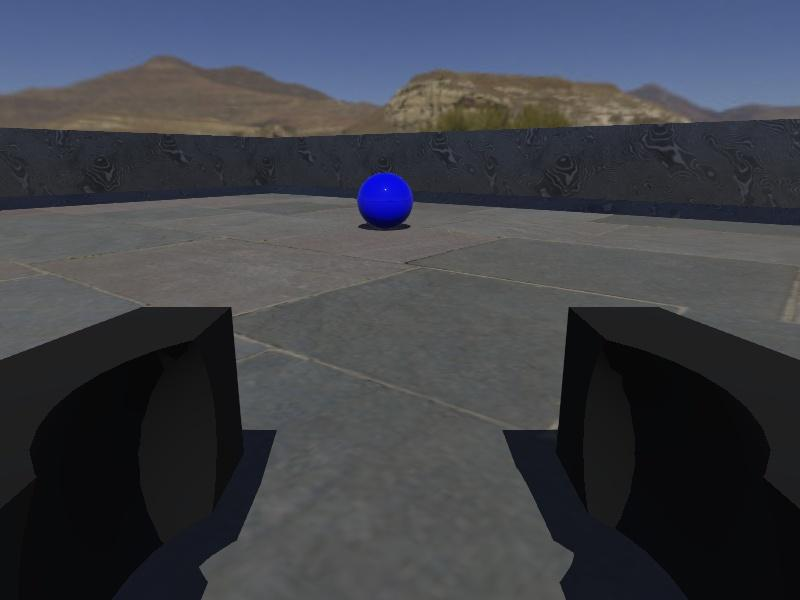blue ball: (356, 170, 414, 230)
